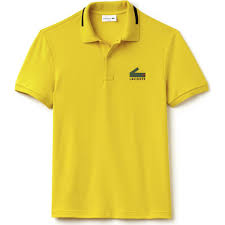C_polo shirt: (13, 1, 199, 218)
